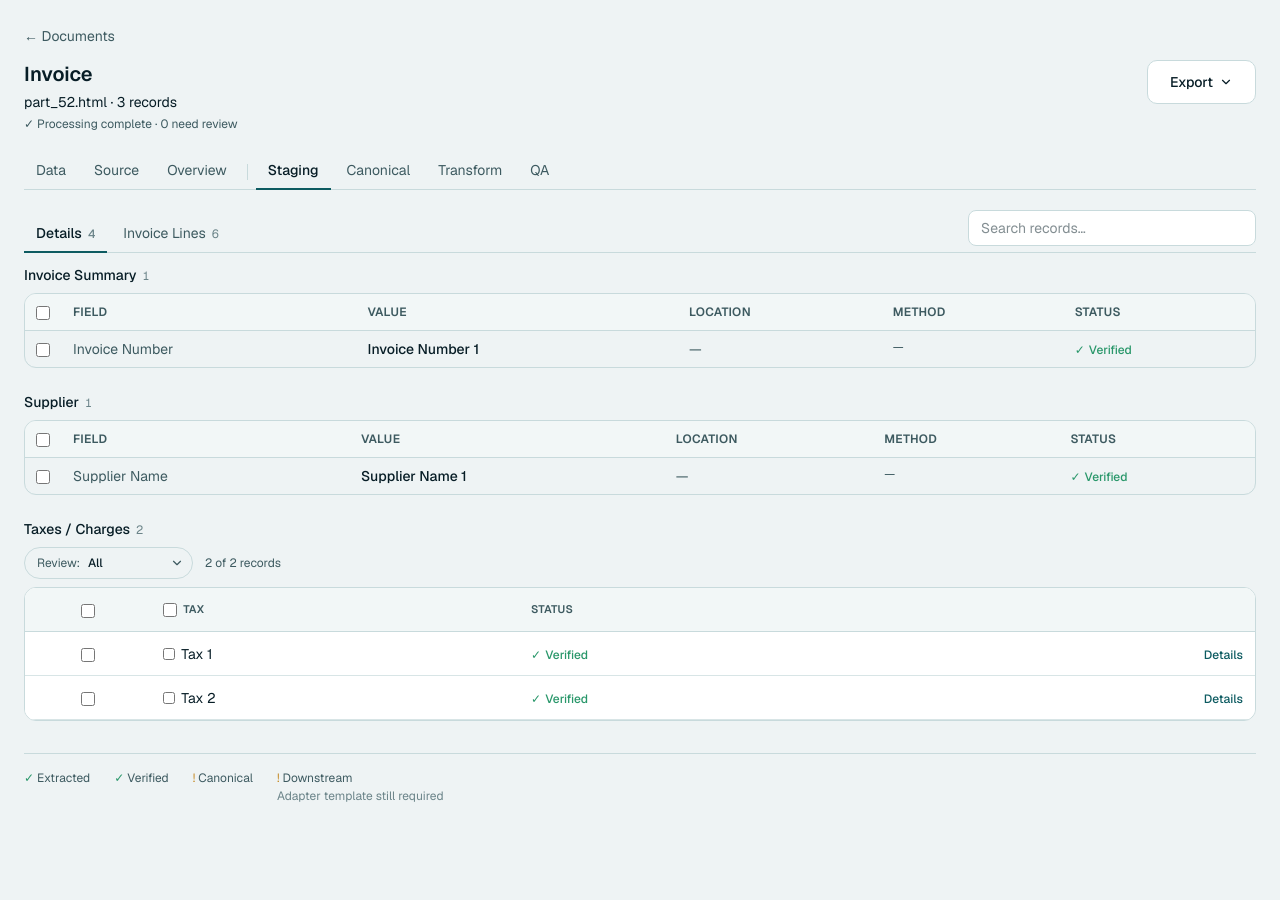
DocumentWorkspace combines small dataset tabs › searches across the combined sections
The image size is (1280, 900).
In the search field named "Search Details": (1112, 228) [968, 210, 1256, 246], type "Tax 2"
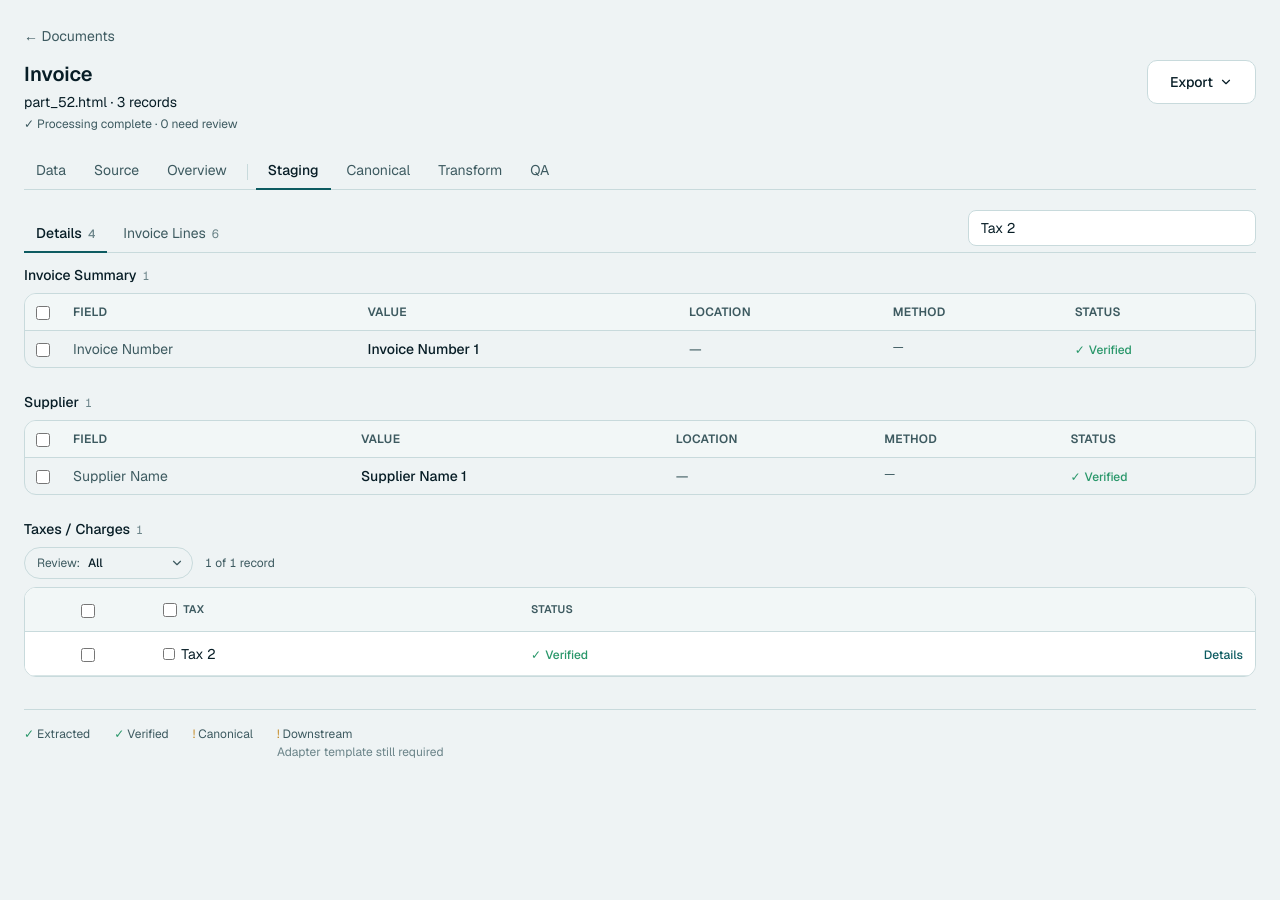
Expected: the text "Tax 2" is shown, [181, 644, 216, 662]
Expected: the text "Tax 1" is gone
